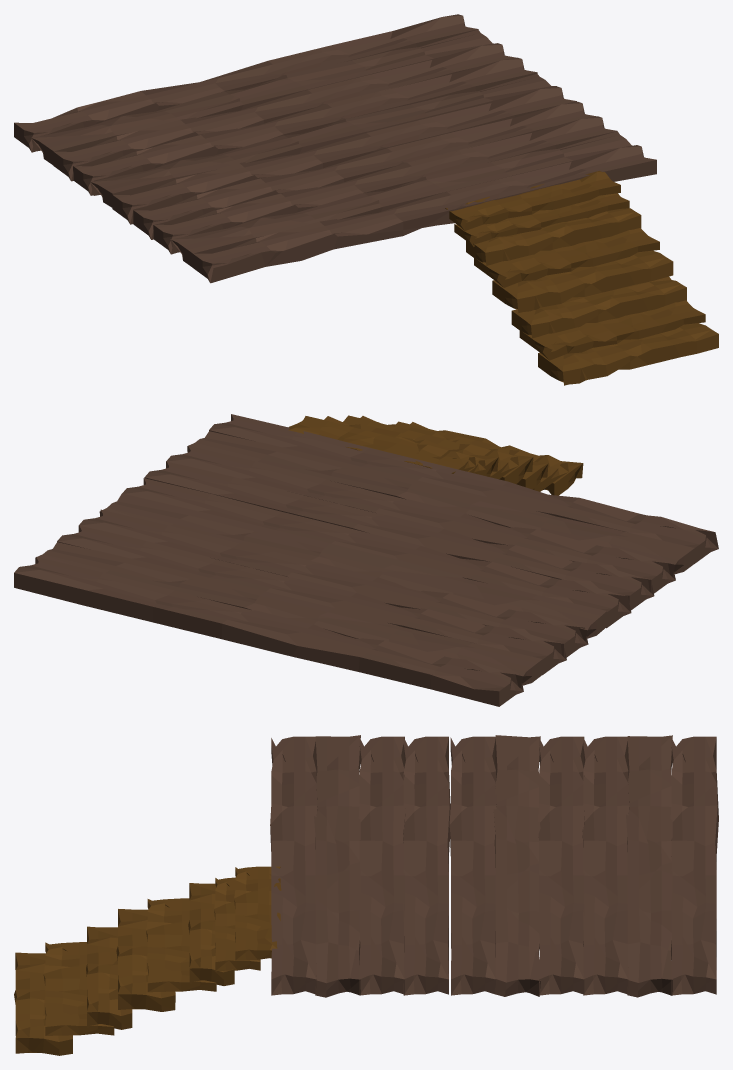
File: house-base.fbx
3 renders of one model, top to bottom at view 1: azimuth 30°, elevation 25°; view 2: azimuth 150°, elevation 25°; view 3: azimuth 270°, elevation 25°, orthographic. The views are drawn at different scales.
Parts seen in each view (by area): view 1: Cube; view 2: Cube; view 3: Cube.
Part boxes in pixels (x1,y1,x2,y2): Cube: (14,14,718,385); Cube: (14,414,718,706); Cube: (14,735,718,1055).
Size of the model in its own units: 792 by 172 by 966.
